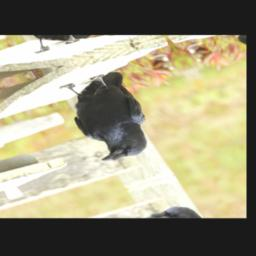Crow: (50, 69, 171, 166)
